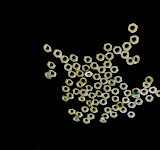nut: (128, 22, 139, 33), (130, 34, 140, 45), (122, 41, 133, 51), (103, 42, 114, 52), (83, 55, 94, 64), (132, 55, 142, 64), (54, 48, 63, 58), (70, 53, 79, 63), (90, 61, 100, 70), (48, 60, 57, 70), (145, 76, 154, 85), (146, 94, 155, 103), (113, 46, 122, 55), (121, 50, 130, 59), (110, 65, 119, 74), (105, 52, 114, 61), (104, 71, 113, 80), (85, 70, 94, 79), (72, 62, 81, 71), (60, 55, 69, 64), (96, 52, 104, 62), (44, 43, 52, 53), (141, 88, 149, 97), (114, 75, 123, 83), (103, 60, 112, 68), (111, 88, 120, 96), (68, 70, 76, 79), (76, 69, 84, 78), (66, 78, 74, 87), (79, 77, 88, 85), (142, 82, 152, 89), (119, 83, 129, 90), (150, 86, 158, 94), (126, 57, 134, 65), (124, 89, 132, 97), (98, 66, 106, 74), (104, 85, 112, 93), (112, 95, 120, 103), (100, 78, 108, 86), (93, 73, 101, 81), (94, 82, 102, 90), (64, 63, 72, 71), (68, 108, 76, 116), (49, 69, 57, 77), (80, 89, 88, 97), (62, 85, 70, 93), (110, 111, 118, 119), (116, 102, 124, 110), (104, 106, 112, 114), (103, 92, 111, 100), (66, 92, 74, 100), (135, 99, 144, 106), (132, 87, 141, 94), (77, 82, 86, 89), (93, 98, 100, 107), (128, 112, 136, 119), (128, 102, 136, 109), (122, 97, 130, 104), (108, 79, 115, 87), (86, 85, 94, 92), (100, 98, 107, 106), (119, 107, 127, 114), (76, 111, 83, 119), (88, 92, 96, 99), (81, 106, 89, 113), (62, 95, 69, 103), (45, 71, 51, 80), (88, 113, 95, 120), (91, 107, 98, 114), (112, 104, 119, 111), (96, 90, 103, 97), (86, 100, 93, 107), (84, 118, 91, 125), (82, 65, 90, 71), (73, 88, 79, 96), (132, 94, 141, 99), (73, 117, 80, 123), (100, 118, 107, 124), (78, 96, 85, 102), (102, 114, 110, 119), (156, 90, 160, 97)
